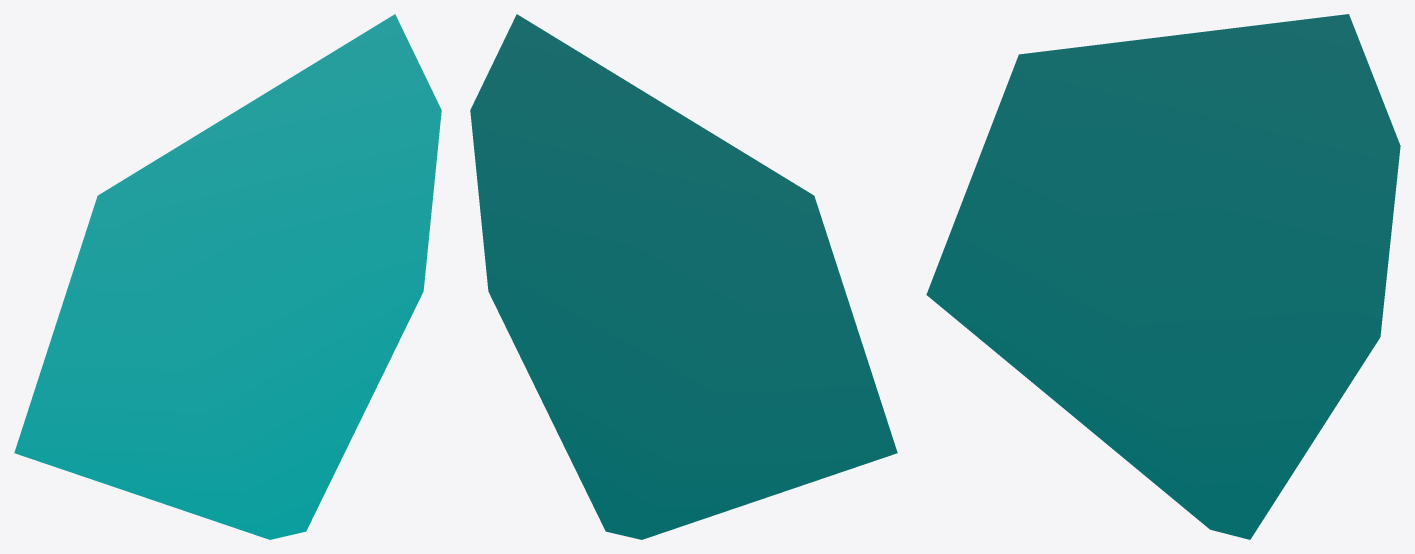
The model's file is Wild_Grass_sjliZ_Mid_sjliZ_VarC_LOD2.fbx.
3 views of the same model, side by side, from view 1: azimuth 30°, elevation 25°; view 2: azimuth 150°, elevation 25°; view 3: azimuth 330°, elevation 25° (orthographic). The views are drawn at different scales.
Visible parts, largest first — view 1: _77eb_VarC_LOD3; view 2: _77eb_VarC_LOD3; view 3: _77eb_VarC_LOD3.
Part boxes in pixels (x1,y1,x2,y2): _77eb_VarC_LOD3: (14, 14, 441, 539); _77eb_VarC_LOD3: (470, 14, 897, 539); _77eb_VarC_LOD3: (926, 14, 1400, 539).
Bounding box in the file's own units: 58.57 × 64.92 × 0.
